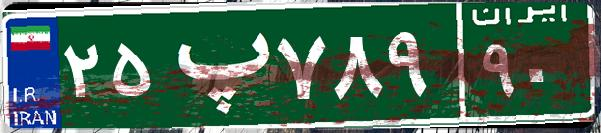0: (525, 38, 570, 115)
2: (57, 26, 110, 107)
5: (110, 28, 158, 105)
7: (273, 28, 330, 110)
8: (330, 28, 385, 110)
9: (385, 28, 445, 110), (475, 38, 525, 113)
پ: (158, 15, 273, 115)
